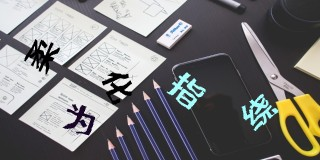为: (63, 104, 95, 136)
化: (102, 72, 133, 105)
指: (166, 71, 206, 111)
柔: (23, 38, 60, 74)
绕: (240, 93, 280, 131)
